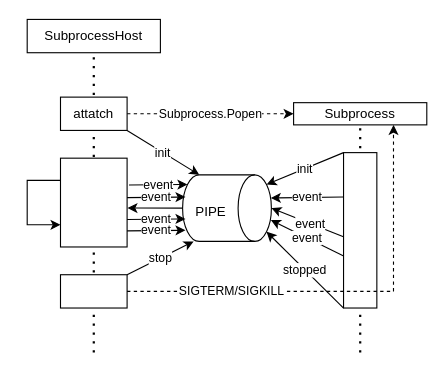
Some shapes in this 446 by 374 pixel diagram are drawn without their labels. Here are the shapes that lost their labels. From the top down, the centre of each, then its label:
the point at 93,202: Pool
the point at 93,291: detach
